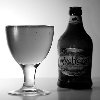beer: (58, 4, 94, 91)
